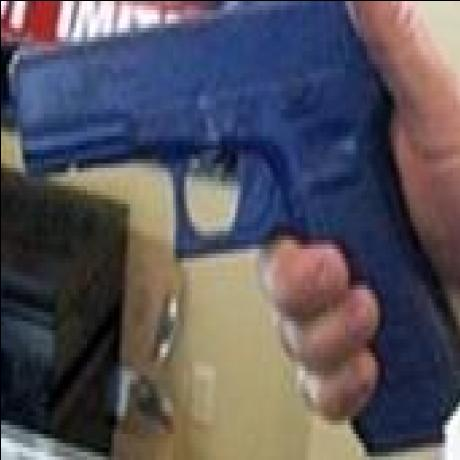1: (254, 0, 460, 424)
weapon: (7, 13, 460, 453)
